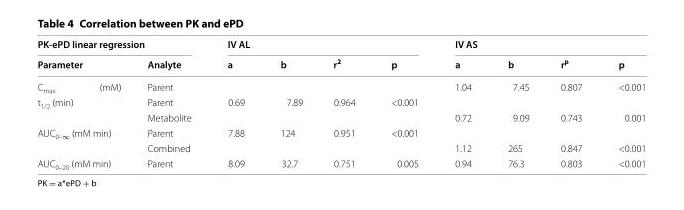table: (36, 37, 645, 170)
table column: (36, 37, 133, 170), (133, 37, 208, 170), (372, 37, 436, 170), (261, 37, 317, 170), (488, 37, 544, 170), (317, 37, 372, 170), (544, 37, 599, 170), (208, 37, 261, 170), (436, 37, 488, 170), (599, 37, 645, 170)
table column header: (36, 37, 645, 75)
table row: (36, 52, 645, 75), (36, 75, 645, 95), (36, 124, 645, 140), (36, 37, 645, 52), (36, 109, 645, 124), (36, 140, 645, 155), (36, 155, 645, 170), (36, 95, 645, 109)
table spanning cell: (208, 37, 436, 52), (436, 37, 645, 52), (36, 124, 133, 155), (36, 95, 133, 124), (36, 37, 208, 52)
